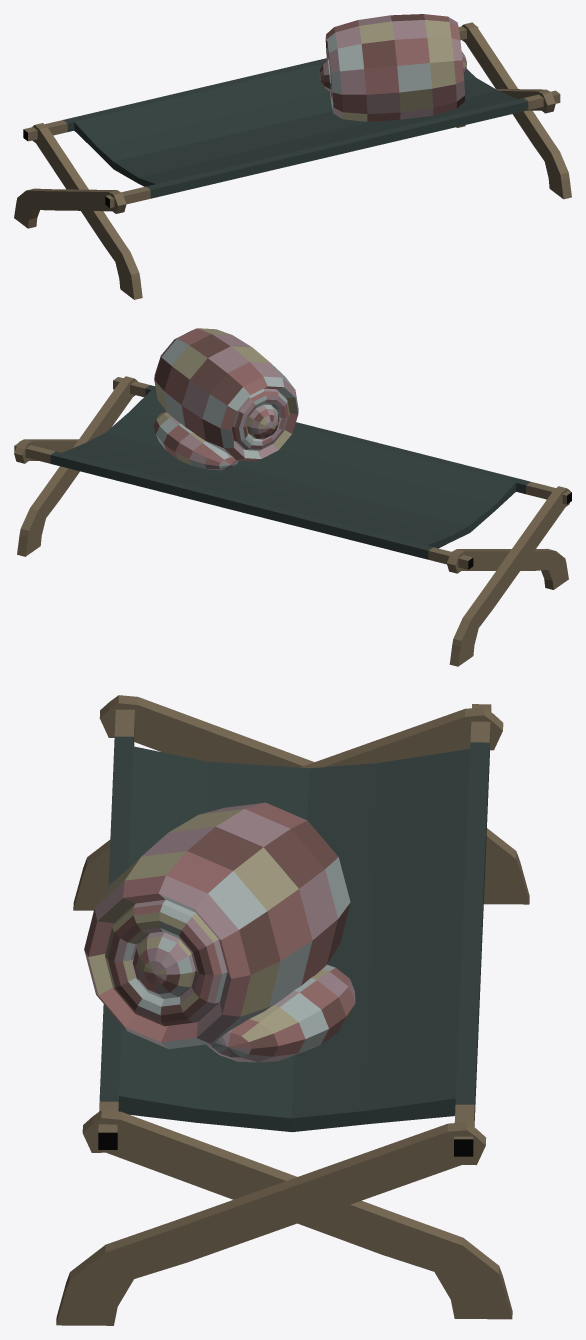
The model's file is Sleeping_cot_khaki_90.glb.
3 views of the same model, one above another, from view 1: azimuth 30°, elevation 25°; view 2: azimuth 150°, elevation 25°; view 3: azimuth 270°, elevation 25° (orthographic). The views are drawn at different scales.
Parts seen in each view (by area): view 1: group525752226, group1041837734, group802491558, group2041126463, group1224999123, group1577345827, group215986146, group1037513086; view 2: group525752226, group1041837734, group215986146, group1577345827, group1037513086, group559781611, group2041126463, group802491558, group955491185, group911579974, group1224999123; view 3: group525752226, group1041837734, group1224999123, group1037513086, group1577345827, group215986146, group499535218, group559781611, group2041126463, group802491558, group2051142577.
Boxes of the visible parts, x1,y1,x2,y2 form: group525752226: (74,64,517,186); group1041837734: (325,14,464,121); group802491558: (105,90,560,208); group2041126463: (32,123,142,299); group1224999123: (461,22,571,199); group1577345827: (14,188,126,228); group215986146: (23,26,478,141); group1037513086: (456,88,555,127); group525752226: (62,390,515,548); group1041837734: (154,328,298,461); group215986146: (14,443,473,569); group1577345827: (449,486,570,666); group1037513086: (17,376,137,556); group559781611: (153,411,238,470); group2041126463: (446,548,568,589); group802491558: (113,377,571,504); group955491185: (232,388,289,450); group911579974: (247,404,279,439); group1224999123: (14,439,78,463); group525752226: (119,746,470,1132); group1041837734: (84,802,350,1048); group1224999123: (56,1122,486,1325); group1037513086: (82,1110,512,1319); group1577345827: (99,695,529,904); group215986146: (454,704,491,1156); group499535218: (105,899,227,1026); group559781611: (206,964,355,1062); group2041126463: (73,707,503,910); group802491558: (98,709,134,1149); group2051142577: (132,931,195,998).
Size of the model in its own units: 1.09 by 0.4162 by 0.4922.
